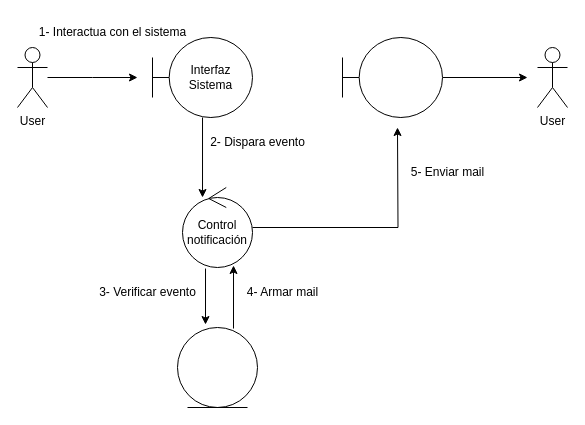
Image size: 585x425. Some labels were removed from this diagram. Here are the shapes that lost their labels. From the top down, the box of each, then its label:
(342, 36, 442, 118): Casilla del usuario
(176, 326, 258, 408): Notificación
